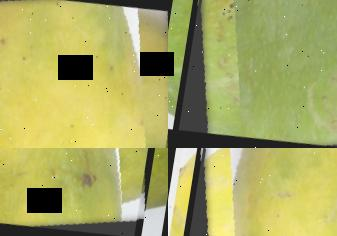PartiallyRipe: (0, 0, 168, 148), (0, 148, 164, 236), (180, 148, 337, 236)
Unripe: (178, 0, 337, 148)
